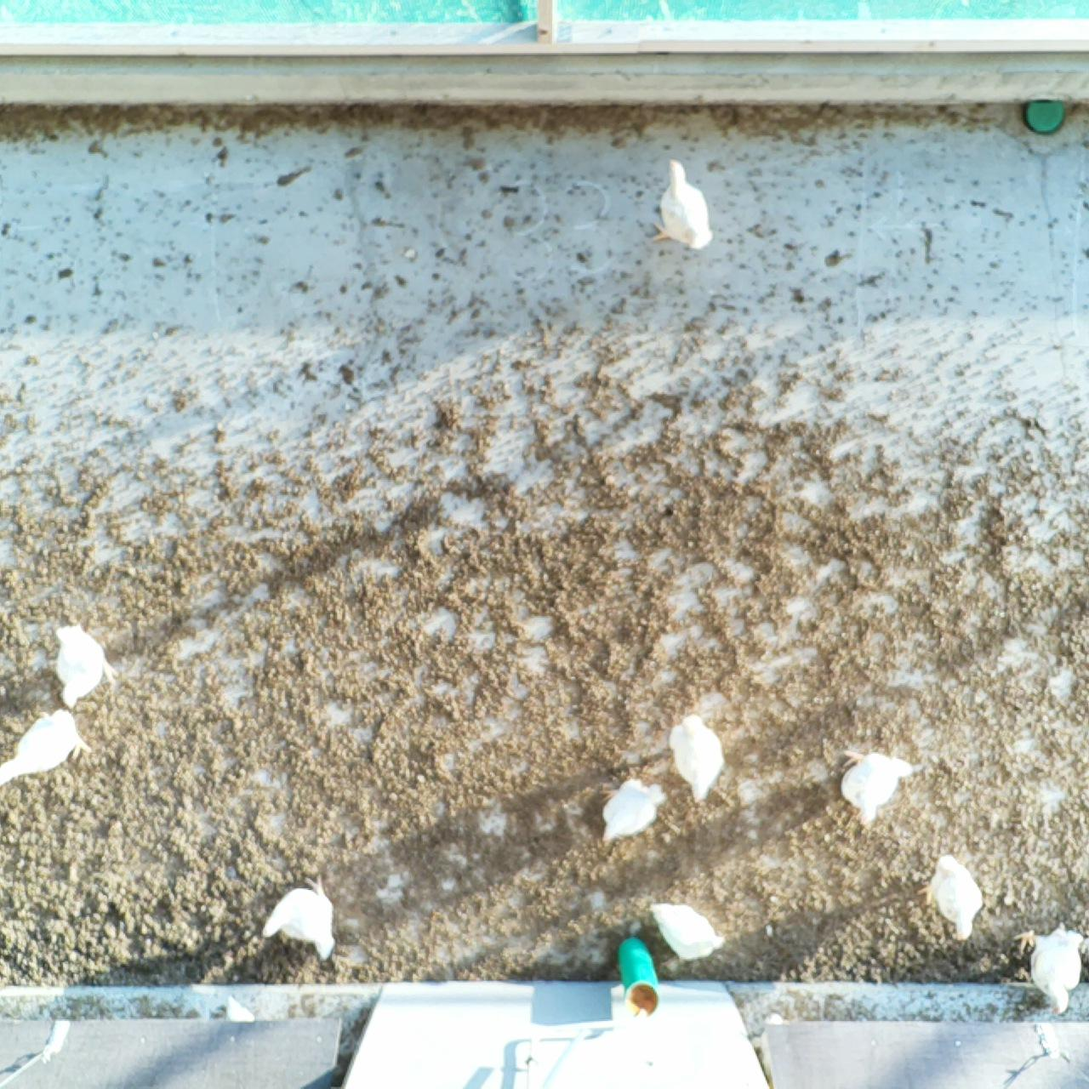chicken: (0, 705, 88, 787), (1012, 921, 1086, 1018), (834, 742, 915, 830), (262, 874, 341, 963), (48, 619, 121, 708), (648, 153, 714, 250), (645, 893, 726, 964), (924, 848, 984, 942), (668, 711, 726, 802), (598, 775, 667, 849)
